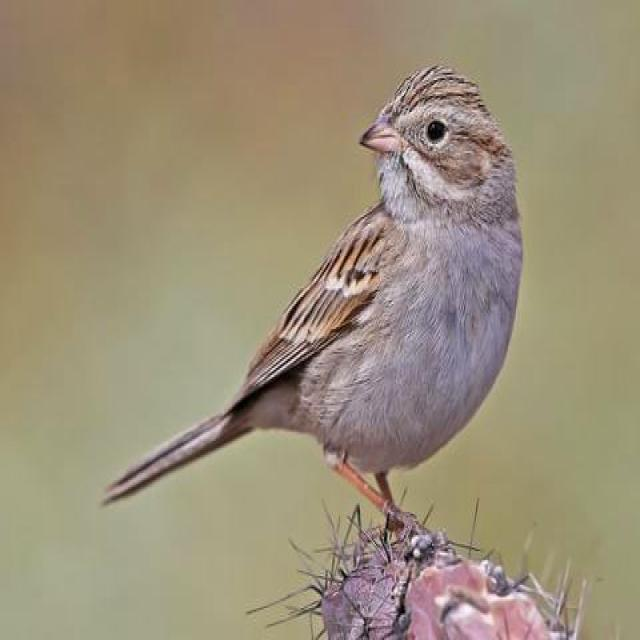sparrow: (105, 66, 523, 539)
